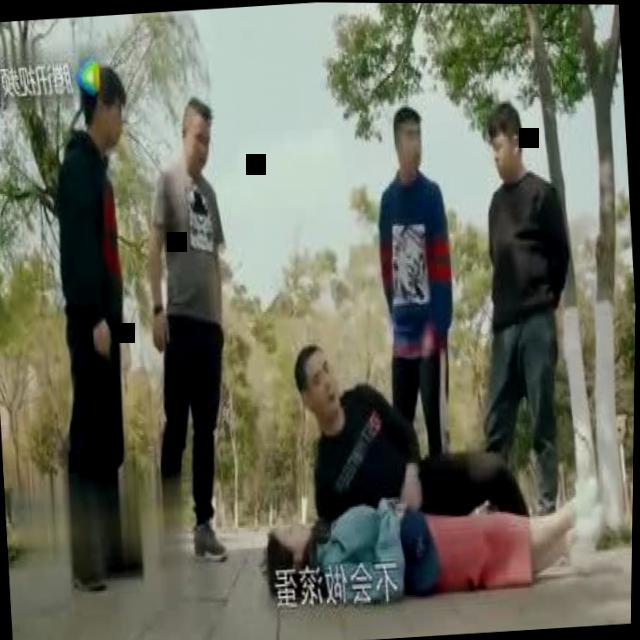Fall-Detected: (261, 458, 599, 610)
